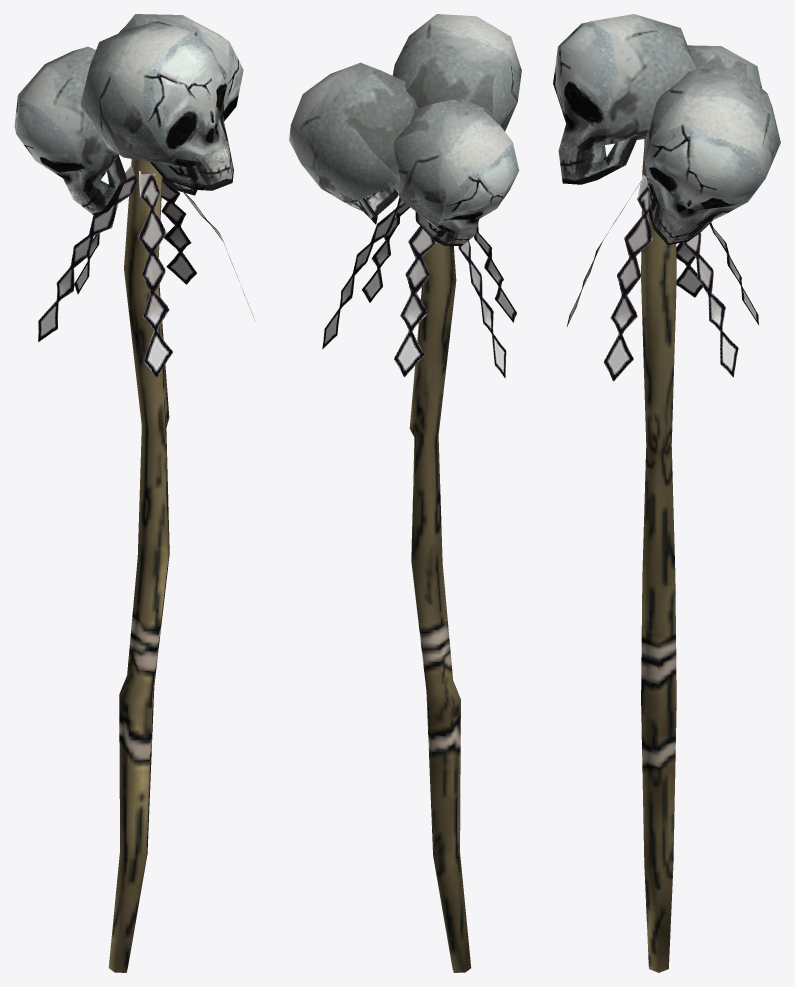
The model's file is WP_OniWitch.FBX.
3 views of the same model, side by side, from view 1: azimuth 30°, elevation 25°; view 2: azimuth 150°, elevation 25°; view 3: azimuth 270°, elevation 25° (orthographic). The views are drawn at different scales.
Visible parts, largest first — view 1: WP_OniWitch; view 2: WP_OniWitch; view 3: WP_OniWitch.
Part boxes in pixels (bbox=[...]): WP_OniWitch: bbox=[14, 14, 254, 972]; WP_OniWitch: bbox=[289, 14, 521, 972]; WP_OniWitch: bbox=[553, 14, 780, 972].
Bounding box in the file's own units: 60.96 × 253 × 54.56.
